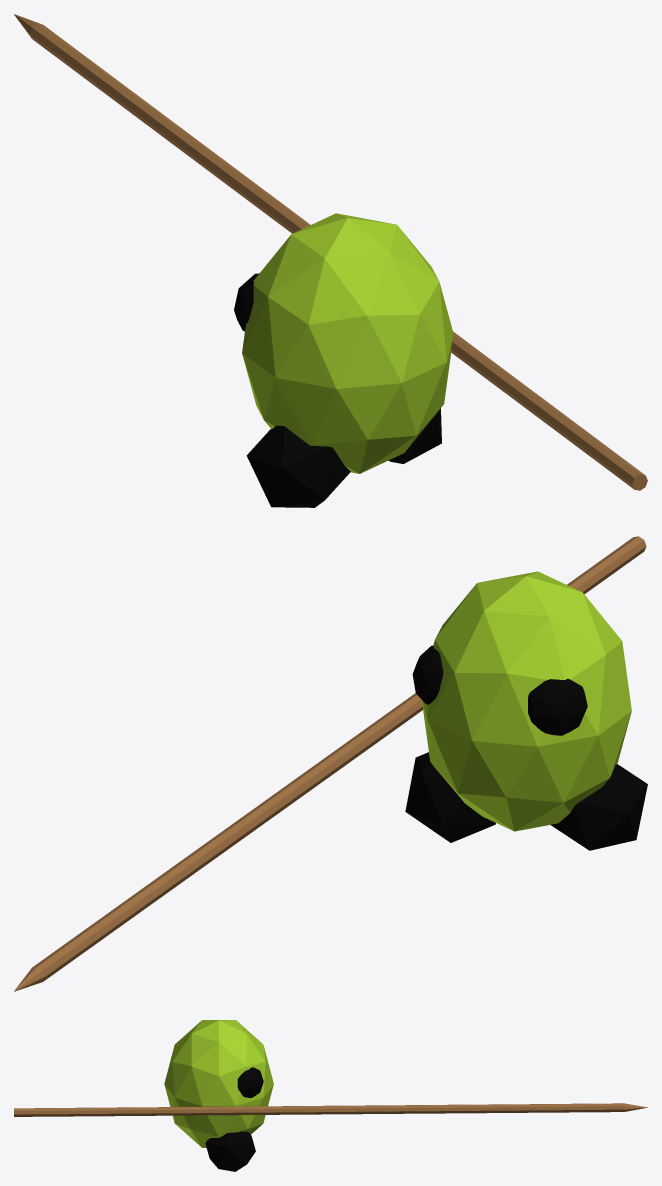
File: walk.f0020.glb
3 renders of one model, top to bottom at view 1: azimuth 30°, elevation 25°; view 2: azimuth 150°, elevation 25°; view 3: azimuth 270°, elevation 25°, orthographic. The views are drawn at different scales.
Parts seen in each view (by area): view 1: Body.001; view 2: Body.001; view 3: Body.001.
Part boxes in pixels (x1=…): Body.001: x1=14, y1=14, x2=647, y2=507; Body.001: x1=14, y1=536, x2=647, y2=991; Body.001: x1=14, y1=1020, x2=647, y2=1171.
Size of the model in its own units: 2.17 by 2.75 by 11.56.
Materials: 1 (1 with a texture image).
